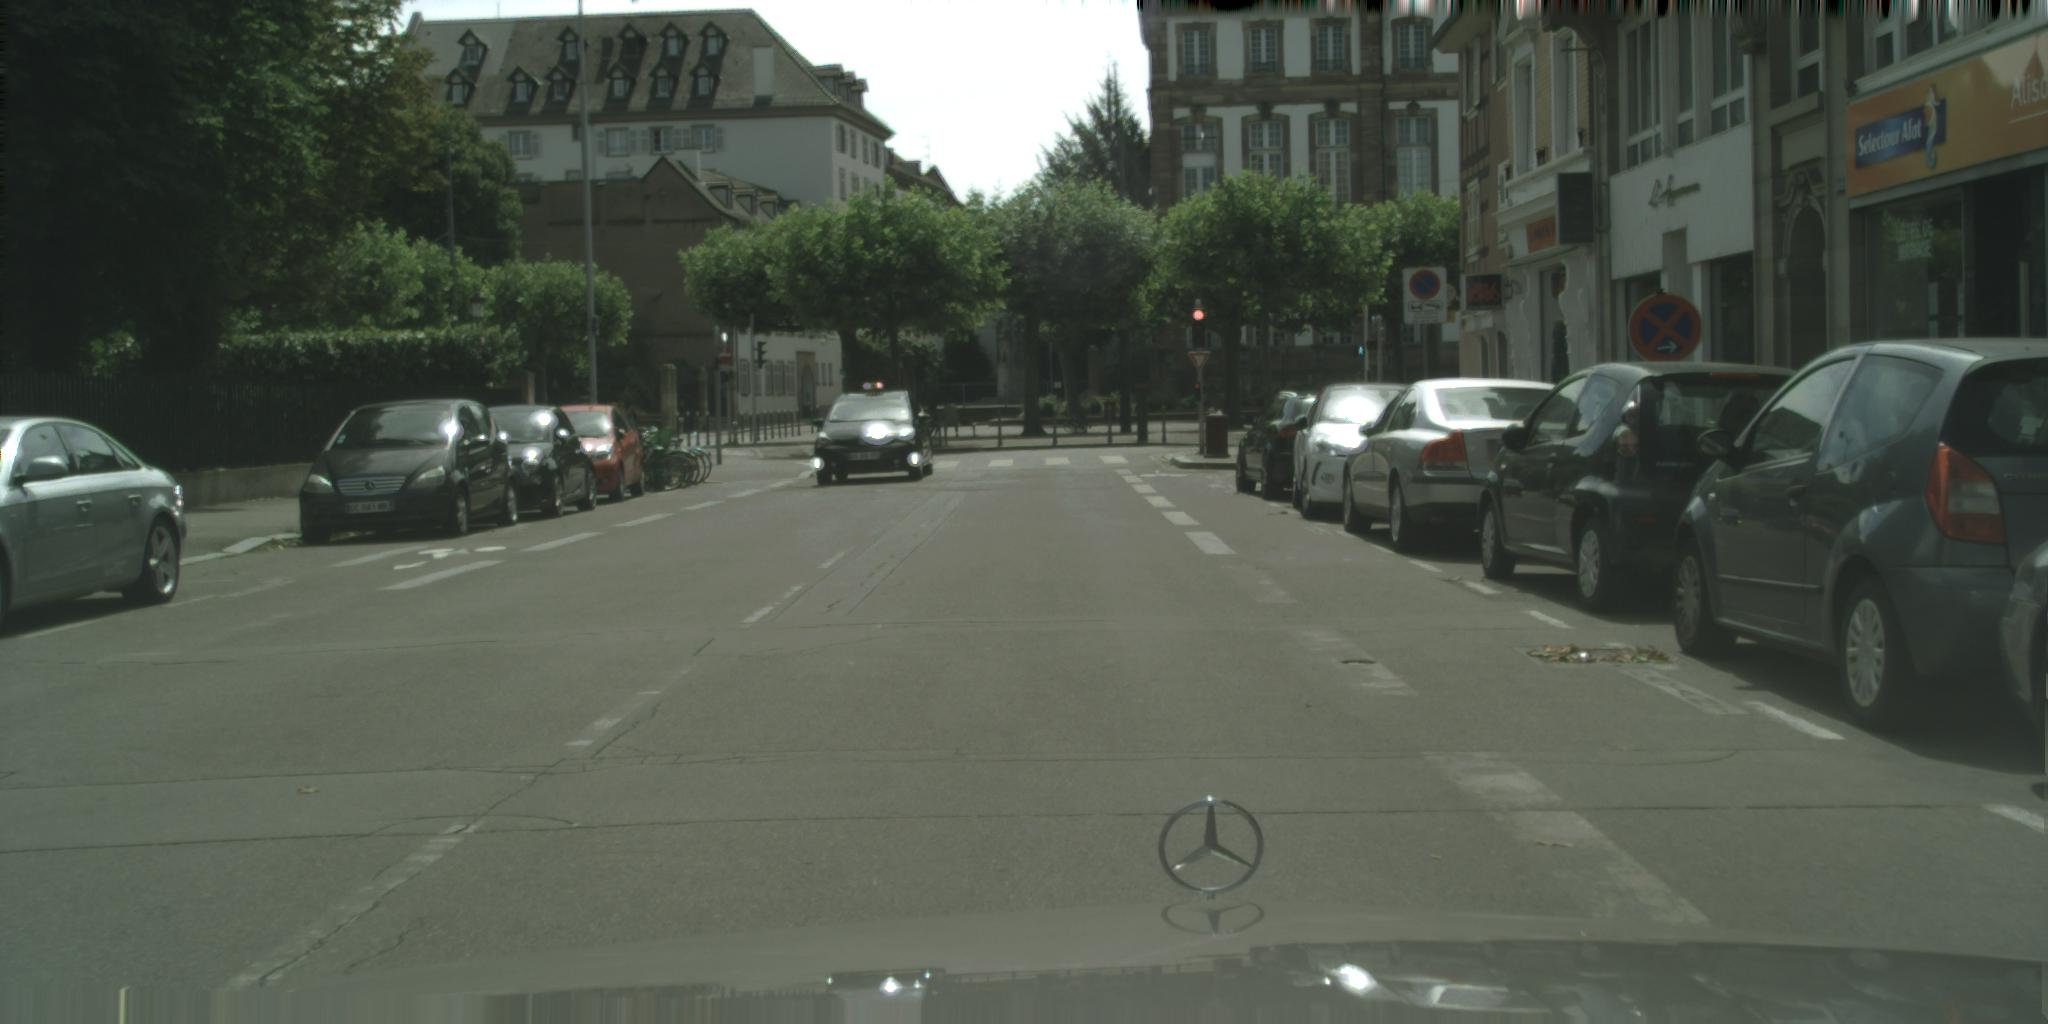bicycle: (656, 432, 714, 485), (643, 449, 696, 488), (639, 451, 688, 492), (660, 440, 701, 487), (667, 440, 708, 486), (1063, 411, 1093, 438)
car: (1671, 334, 2048, 735), (1477, 360, 1821, 616), (1341, 377, 1582, 554), (1, 414, 188, 630), (296, 398, 521, 546), (1292, 381, 1422, 522), (469, 404, 600, 519), (1236, 391, 1357, 502), (810, 381, 936, 487), (1996, 538, 2048, 742), (551, 404, 648, 503)
